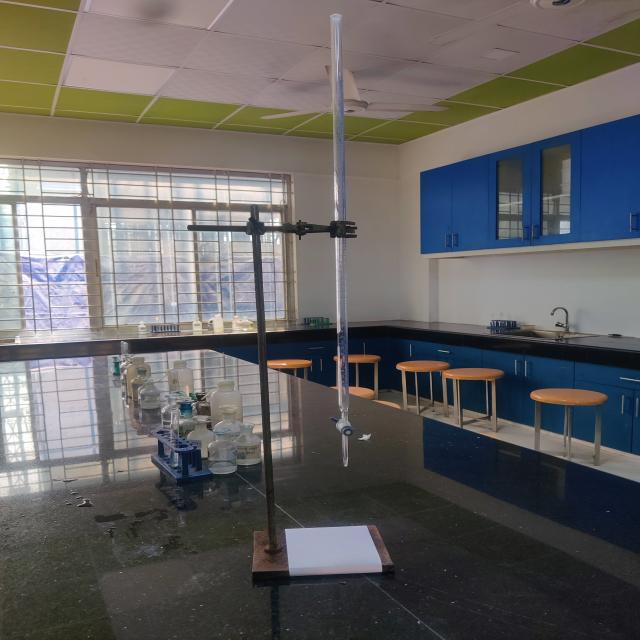Burette_Stands: (172, 4, 406, 601)
